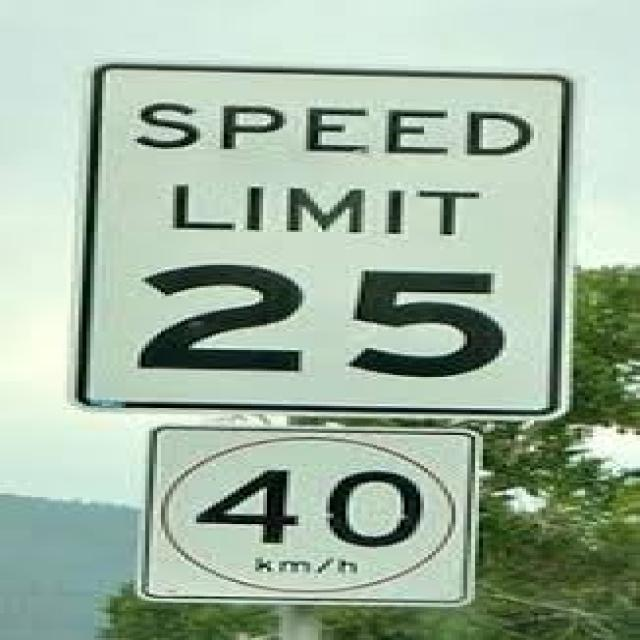speedLimit25: (69, 53, 575, 440)
